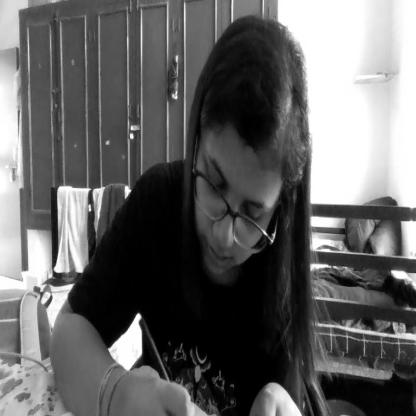Distracted: (194, 25, 312, 295)
